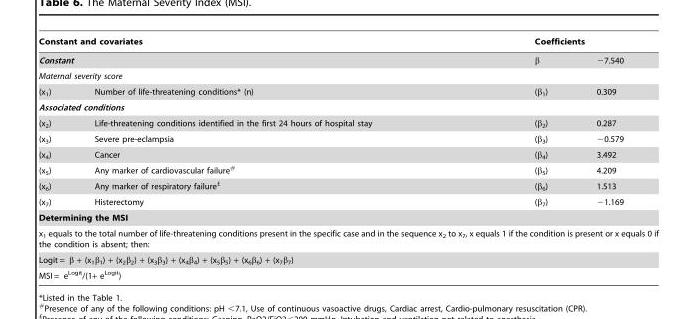table: (37, 36, 657, 280)
table column: (72, 36, 452, 280), (452, 36, 571, 280), (571, 36, 657, 280), (37, 36, 72, 280)
table column header: (37, 36, 657, 99)
table projected row header: (37, 225, 657, 250), (37, 99, 657, 115), (37, 250, 657, 266), (37, 210, 657, 225), (37, 266, 657, 280)
table row: (37, 225, 657, 250), (37, 50, 657, 67), (37, 177, 657, 194), (37, 67, 657, 83), (37, 83, 657, 99), (37, 99, 657, 115), (37, 115, 657, 131), (37, 131, 657, 147), (37, 161, 657, 177), (37, 194, 657, 210), (37, 250, 657, 266), (37, 210, 657, 225), (37, 36, 657, 50), (37, 147, 657, 161), (37, 266, 657, 280)
table spanning cell: (37, 36, 452, 83), (452, 50, 571, 99), (571, 50, 657, 99), (452, 36, 657, 50)
